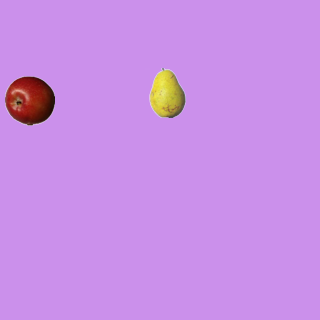Apple Braeburn: (4, 75, 54, 125)
Pear Monster: (142, 67, 192, 117)
